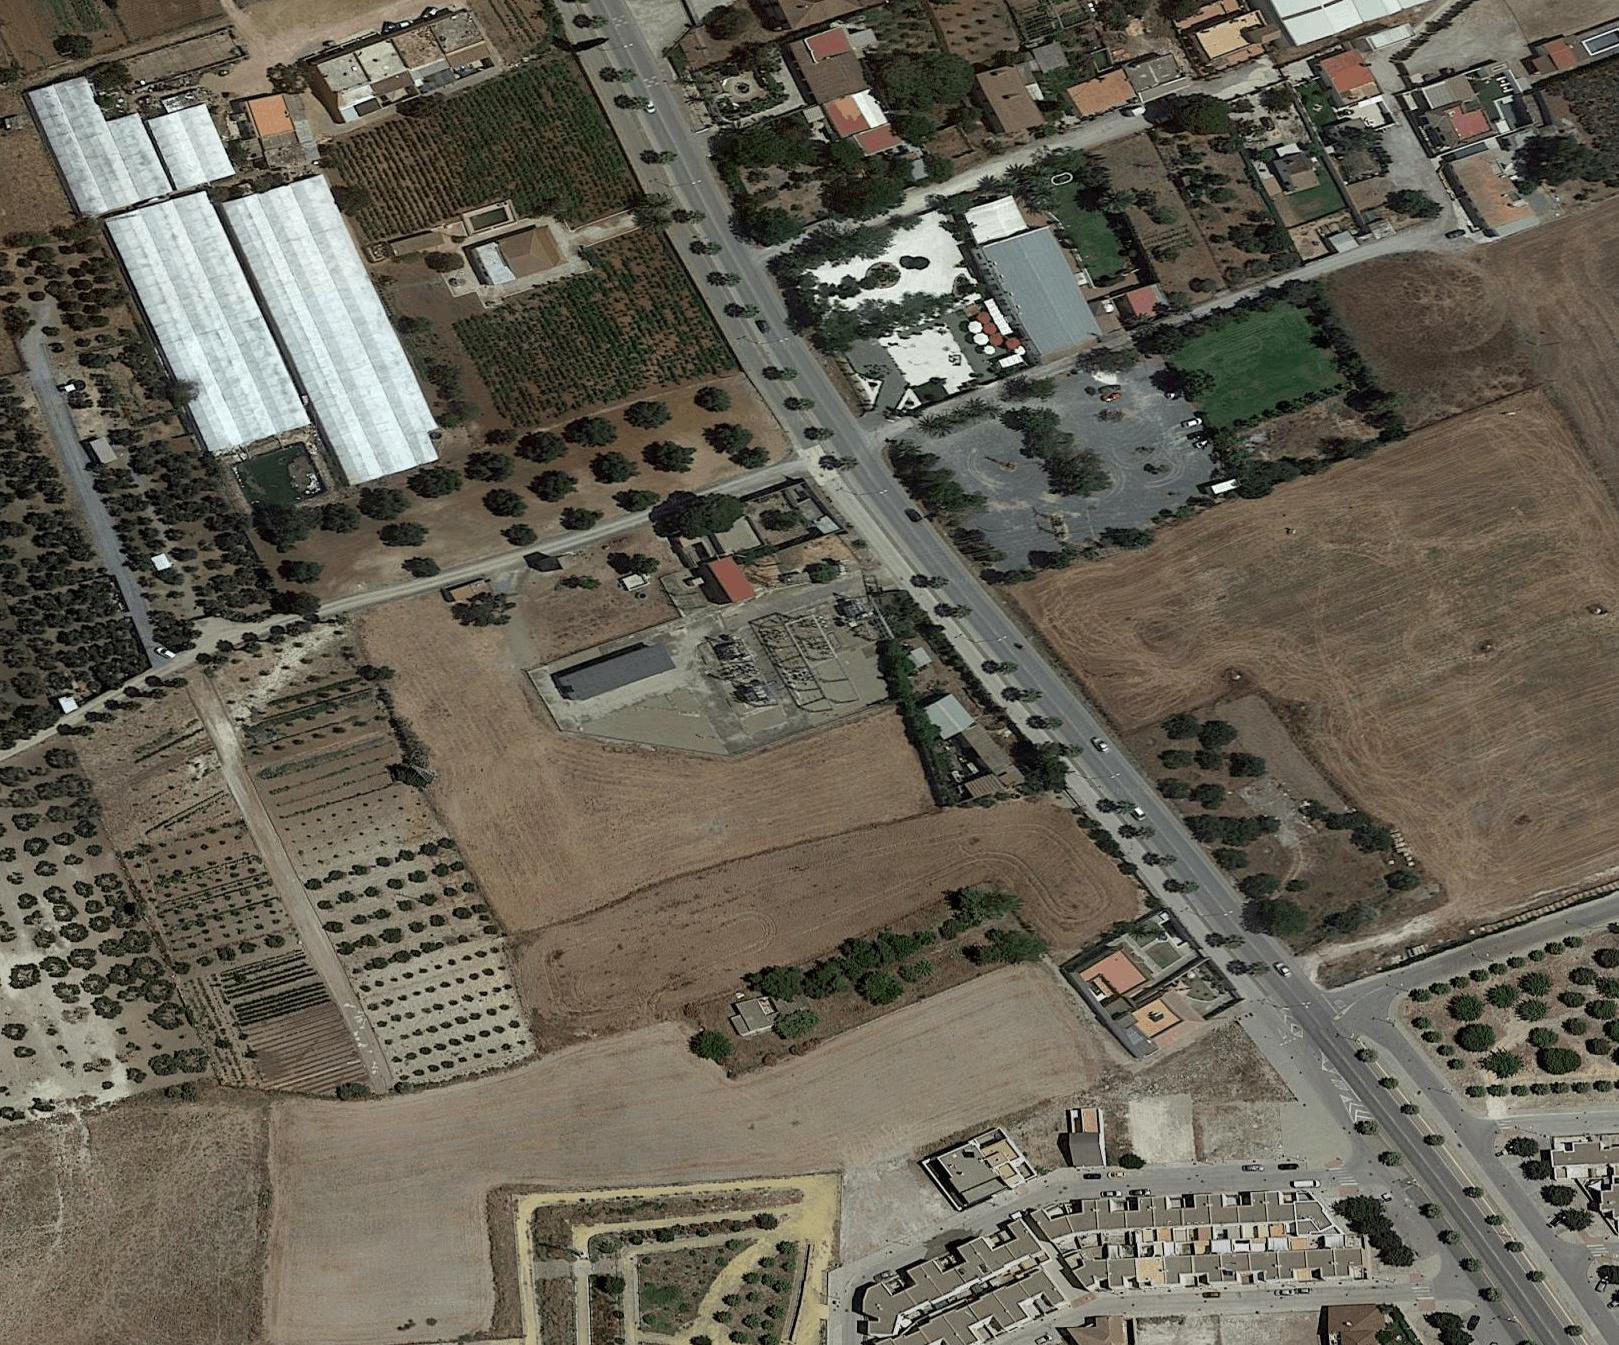substation: (701, 586, 882, 726)
